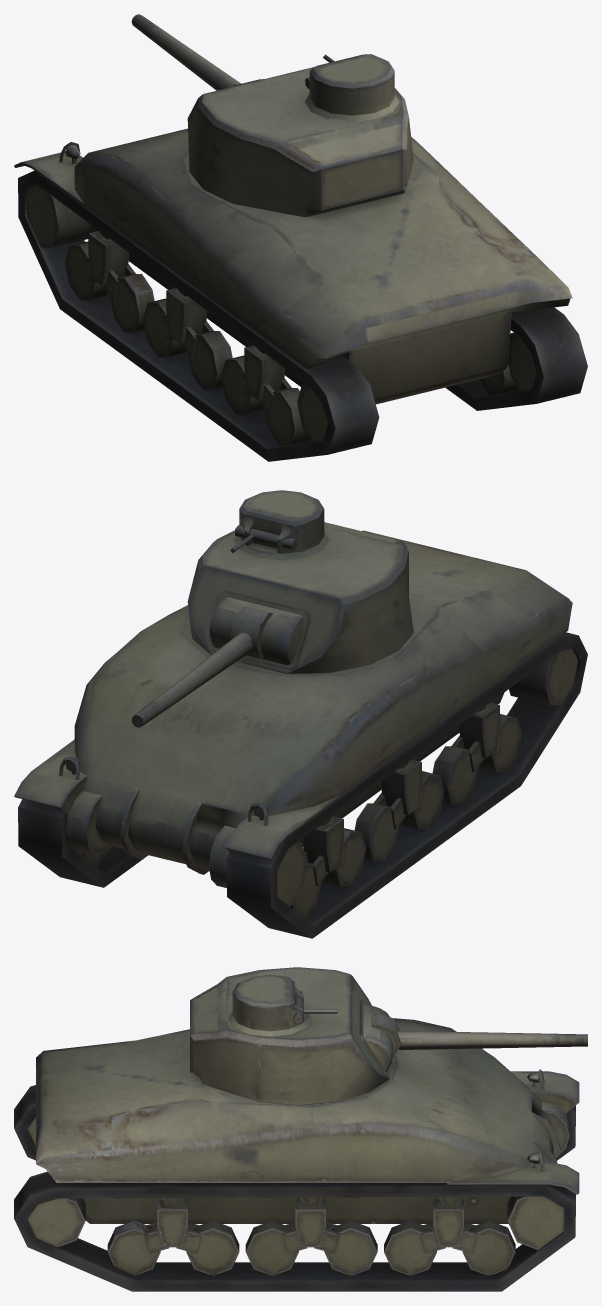
3 renders of one model, top to bottom at view 1: azimuth 30°, elevation 25°; view 2: azimuth 150°, elevation 25°; view 3: azimuth 270°, elevation 25°, orthographic. The views are drawn at different scales.
Parts seen in each view (by area): view 1: T6 Hull, T6 Turret; view 2: T6 Hull, T6 Turret; view 3: T6 Hull, T6 Turret.
Boxes of the visible parts, x1,y1,x2,y2 form: T6 Hull: (14,128,587,461); T6 Turret: (131,14,413,217); T6 Hull: (14,530,587,938); T6 Turret: (131,490,413,727); T6 Hull: (14,1018,579,1291); T6 Turret: (190,967,587,1104).
Bounding box in the file's own units: 2.92 × 3.18 × 6.3.
